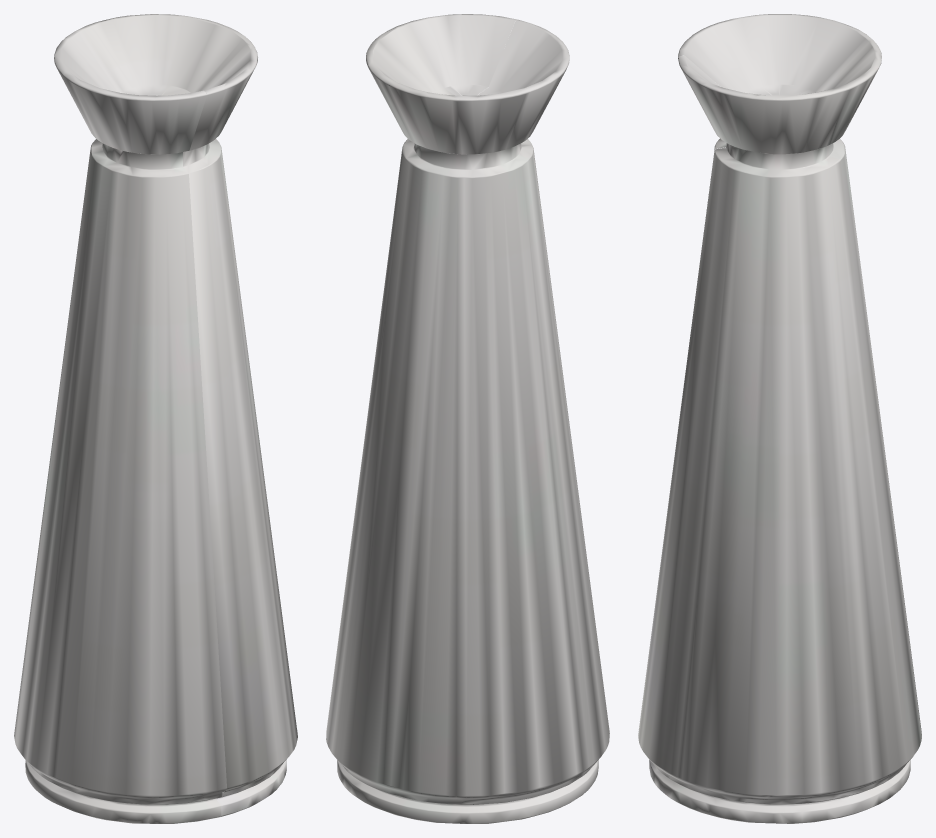
File: 02_dama_bila.glb
The picture shows the model from 3 angles, left to right: view 1: azimuth 30°, elevation 25°; view 2: azimuth 150°, elevation 25°; view 3: azimuth 270°, elevation 25°; orthographic projection.
Parts seen in each view (by area): view 1: 02_dama_bila; view 2: 02_dama_bila; view 3: 02_dama_bila.
Part boxes in pixels (x1,y1,x2,y2): 02_dama_bila: (14, 14, 297, 823); 02_dama_bila: (326, 14, 609, 823); 02_dama_bila: (638, 14, 921, 823).
Size of the model in its own units: 0.0341 by 0.0946 by 0.0341.
Materials: 1 (1 with a texture image).
